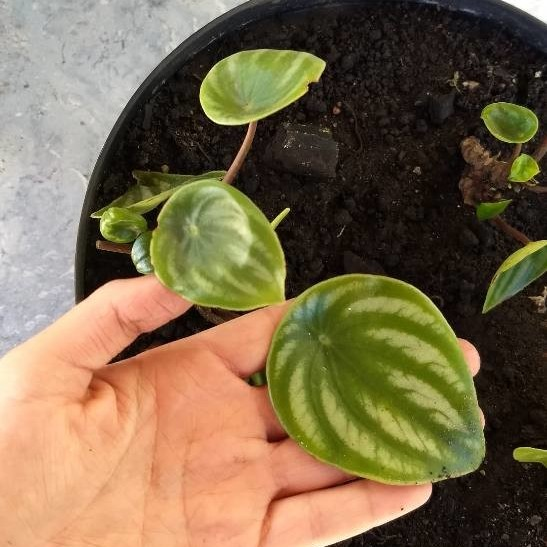obstacle: (103, 55, 512, 516)
